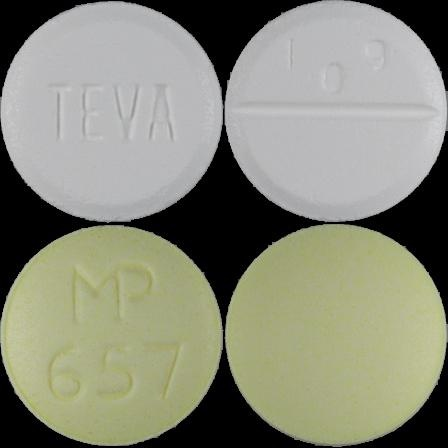67046-086: (0, 0, 224, 224)
